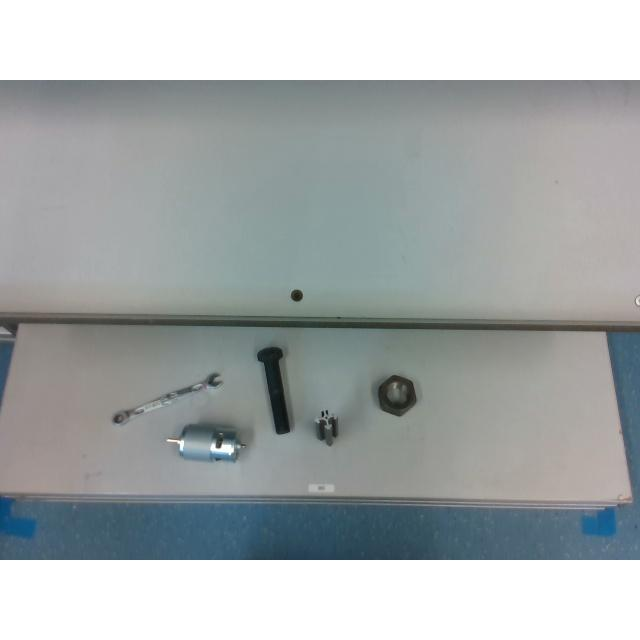F20_20_B: (314, 410, 338, 446)
M20_100: (258, 346, 290, 434)
M30: (378, 376, 416, 416)
Motor2: (167, 424, 246, 461)
Wrench: (112, 372, 222, 424)
